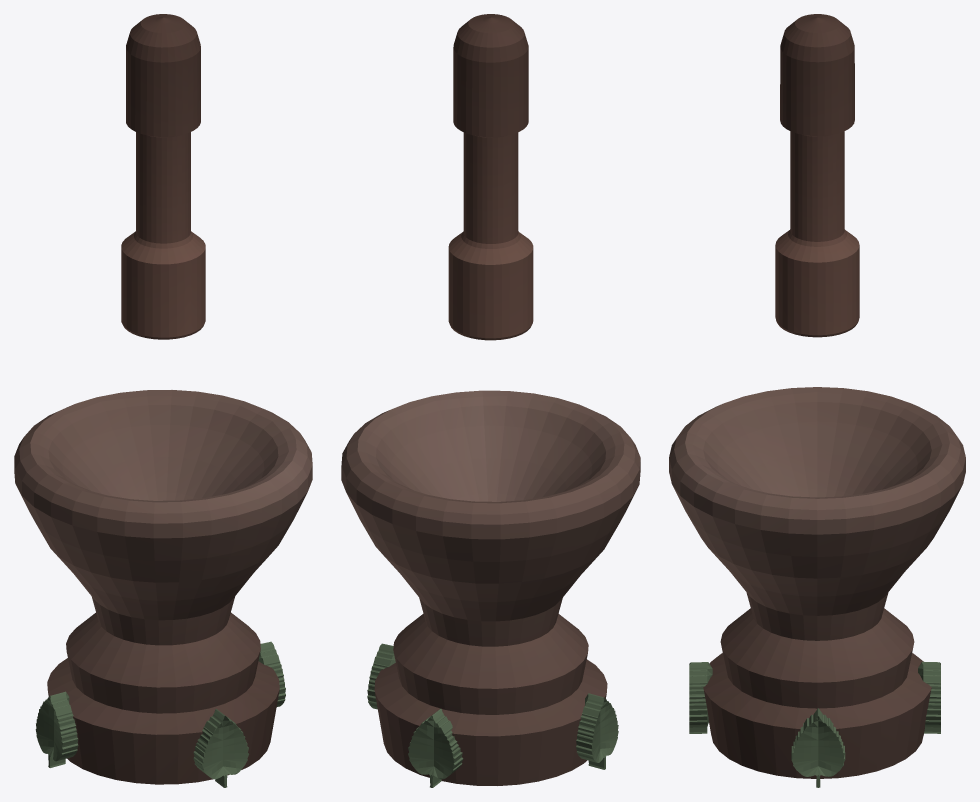
Rendered from pilao_lab_LoPo.fbx.
The picture shows the model from 3 angles, left to right: view 1: azimuth 30°, elevation 25°; view 2: azimuth 150°, elevation 25°; view 3: azimuth 270°, elevation 25°; orthographic projection.
Parts seen in each view (by area): view 1: RecipientePilao_lab_LoPo, pilao_lab_LoPo; view 2: RecipientePilao_lab_LoPo, pilao_lab_LoPo; view 3: RecipientePilao_lab_LoPo, pilao_lab_LoPo.
Boxes of the visible parts, x1,y1,x2,y2 form: RecipientePilao_lab_LoPo: (14,390,312,787); pilao_lab_LoPo: (121,14,205,339); RecipientePilao_lab_LoPo: (341,390,640,787); pilao_lab_LoPo: (448,14,533,340); RecipientePilao_lab_LoPo: (669,387,965,787); pilao_lab_LoPo: (775,14,859,337).
Bounding box in the file's own units: 54.23 × 145 × 54.23.
